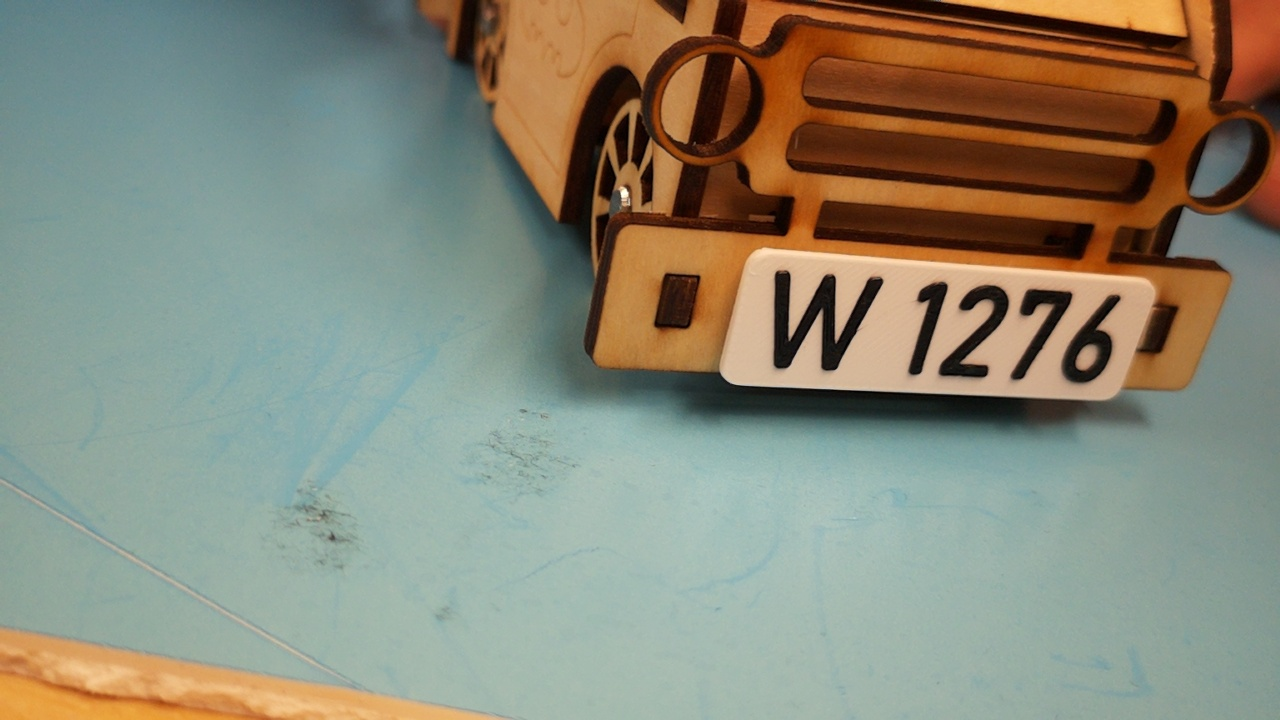license_plate: (716, 244, 1159, 406)
